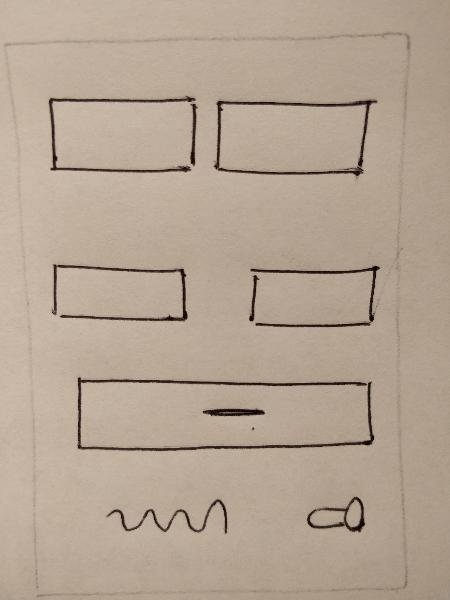button: (64, 370, 382, 466)
switch: (297, 490, 370, 541)
text: (90, 491, 234, 543)
text_input: (209, 92, 383, 184), (39, 90, 203, 180), (239, 260, 390, 339), (45, 254, 192, 333)
